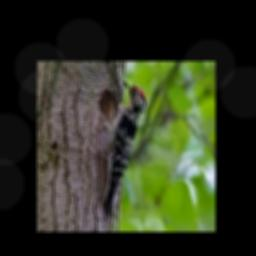Woodpecker: (99, 80, 146, 219)
